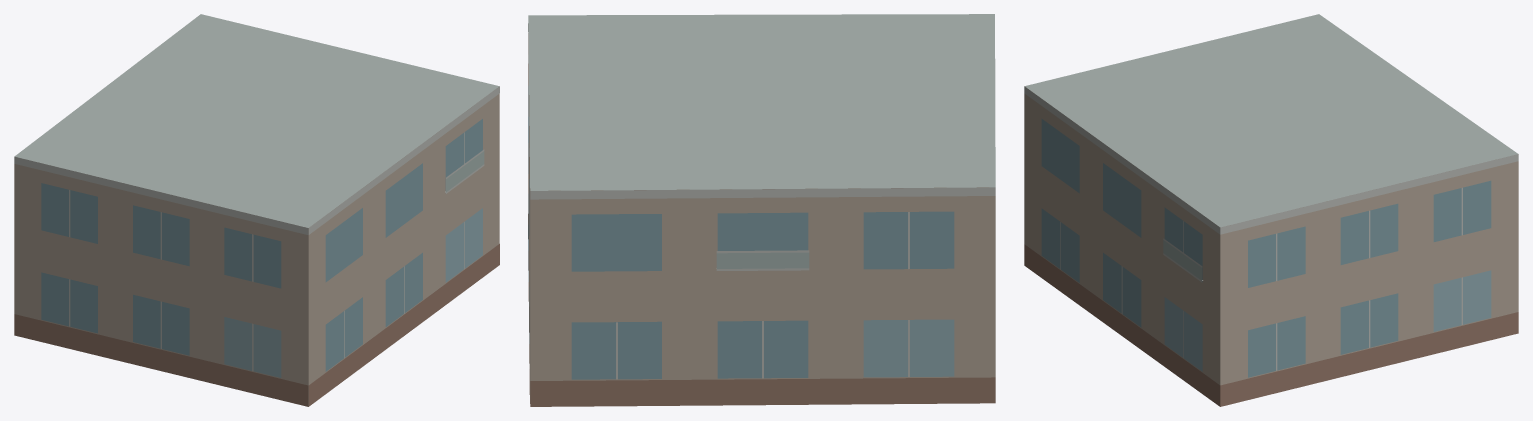
File: survey-upis-32685129.glb
The picture shows the model from 3 angles, left to right: view 1: azimuth 30°, elevation 25°; view 2: azimuth 150°, elevation 25°; view 3: azimuth 270°, elevation 25°; orthographic projection. The views are drawn at different scales.
Parts seen in each view (by area): view 1: survey-upis-32685129.tmp; view 2: survey-upis-32685129.tmp; view 3: survey-upis-32685129.tmp.
Boxes of the visible parts, box(x1,y1,x2,y2) form: survey-upis-32685129.tmp: box(14, 14, 499, 406); survey-upis-32685129.tmp: box(528, 14, 995, 406); survey-upis-32685129.tmp: box(1024, 14, 1518, 406).
Size of the model in its own units: 15.58 by 6.1 by 15.24.
